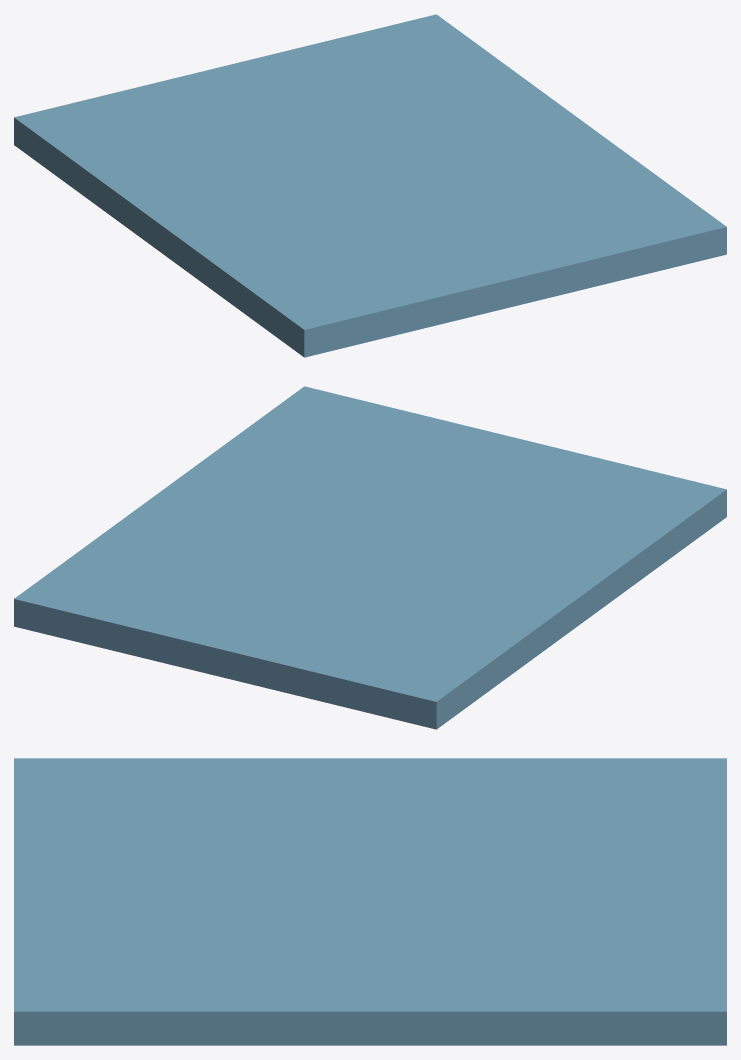
File: WaterMechSmallPlane1.fbx
The picture shows the model from 3 angles, top to bottom: view 1: azimuth 30°, elevation 25°; view 2: azimuth 150°, elevation 25°; view 3: azimuth 270°, elevation 25°; orthographic projection. The views are drawn at different scales.
Visible parts, largest first — view 1: WaterMechSmallPlane1; view 2: WaterMechSmallPlane1; view 3: WaterMechSmallPlane1.
Part boxes in pixels (bbox=[...]): WaterMechSmallPlane1: bbox=[14, 14, 726, 357]; WaterMechSmallPlane1: bbox=[14, 386, 726, 729]; WaterMechSmallPlane1: bbox=[14, 758, 726, 1045].
Bounding box in the file's own units: 1495 × 93.49 × 1779.
